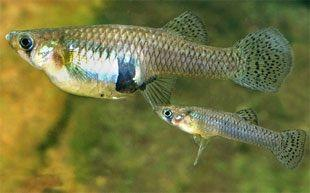Mosquito Fish: (5, 10, 294, 102), (154, 96, 306, 172)
